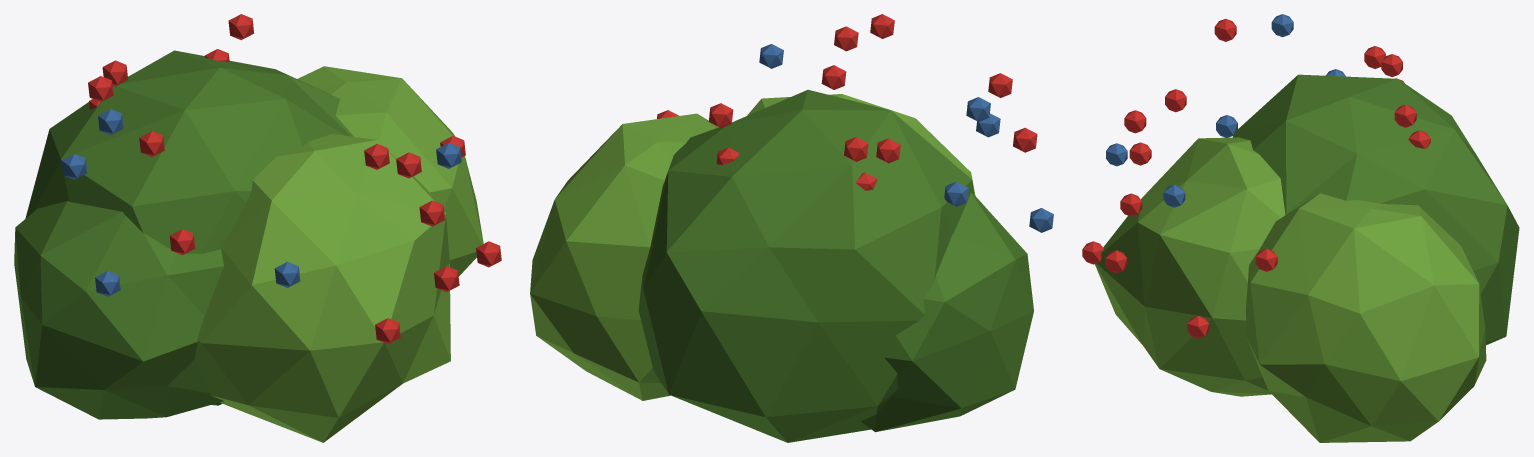
The model's file is SM_Berry_Bush.glb.
The picture shows the model from 3 angles, left to right: view 1: azimuth 30°, elevation 25°; view 2: azimuth 150°, elevation 25°; view 3: azimuth 270°, elevation 25°; orthographic projection. The views are drawn at different scales.
Parts seen in each view (by area): view 1: SM_Berry_Bush; view 2: SM_Berry_Bush; view 3: SM_Berry_Bush.
Part boxes in pixels (left/top/right/bottom): SM_Berry_Bush: left=14, top=14, right=501, bottom=442; SM_Berry_Bush: left=530, top=14, right=1053, bottom=442; SM_Berry_Bush: left=1082, top=14, right=1519, bottom=442.
Bounding box in the file's own units: 0.6633 × 0.4715 × 0.6114.
1 material, 1 textured.
